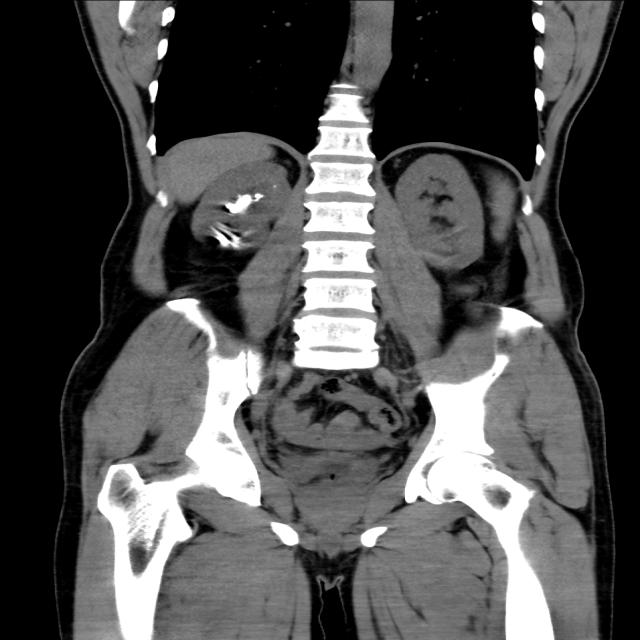kidneystone: (210, 222, 241, 247), (224, 195, 255, 214)
